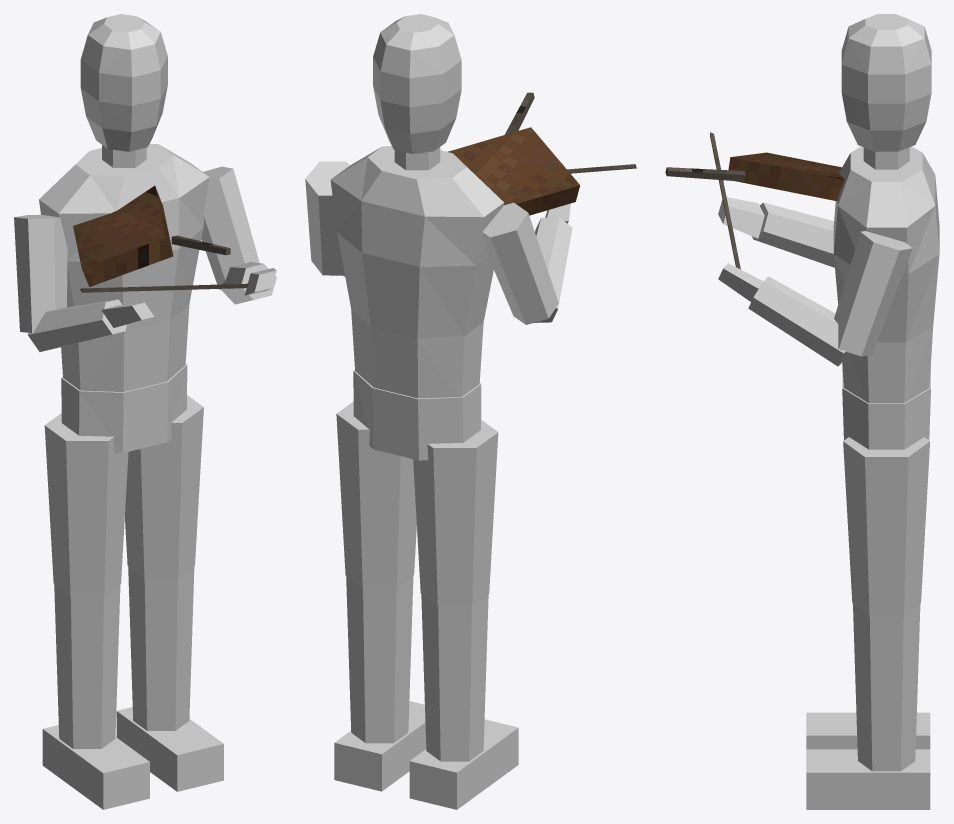
Rendered from violinista.obj.
The picture shows the model from 3 angles, left to right: view 1: azimuth 30°, elevation 25°; view 2: azimuth 150°, elevation 25°; view 3: azimuth 270°, elevation 25°; orthographic projection.
Visible parts, largest first — view 1: violinista; view 2: violinista; view 3: violinista.
Boxes of the visible parts, x1=… form: violinista: x1=14, y1=14, x2=276, y2=809; violinista: x1=305, y1=14, x2=636, y2=809; violinista: x1=665, y1=14, x2=939, y2=809.
Bounding box in the file's own units: 0.6336 × 1.83 × 0.5983.
3 materials, 2 textured.
